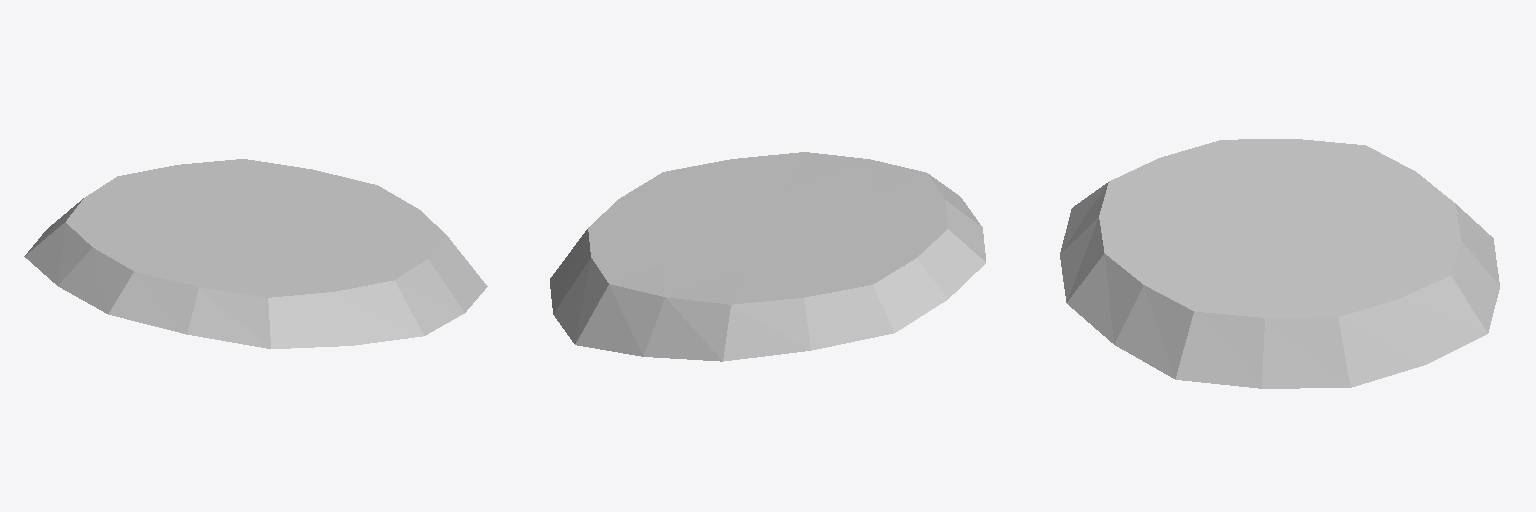
The model's file is slice_05.obj.
3 renders of one model, left to right at view 1: azimuth 30°, elevation 25°; view 2: azimuth 150°, elevation 25°; view 3: azimuth 270°, elevation 25°, orthographic.
Parts seen in each view (by area): view 1: Mushroom.006_Cube.014; view 2: Mushroom.006_Cube.014; view 3: Mushroom.006_Cube.014.
Boxes of the visible parts, x1=… form: Mushroom.006_Cube.014: x1=24, y1=159, x2=487, y2=348; Mushroom.006_Cube.014: x1=550, y1=152, x2=985, y2=361; Mushroom.006_Cube.014: x1=1060, y1=139, x2=1499, y2=388.
Size of the model in its own units: 1.74 by 0.3749 by 1.75.